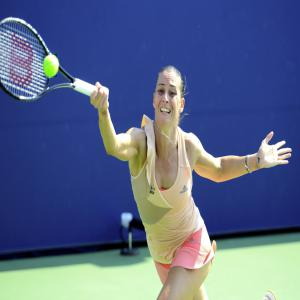TennisBall: (44, 55, 59, 79)
